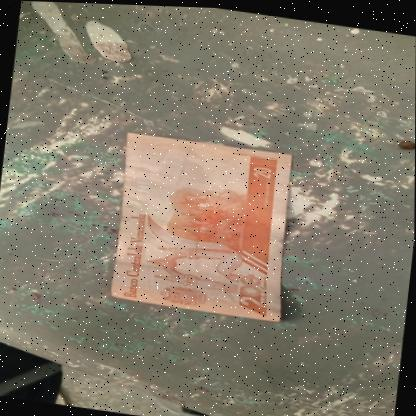twenty-back-vef: (108, 130, 300, 321)
